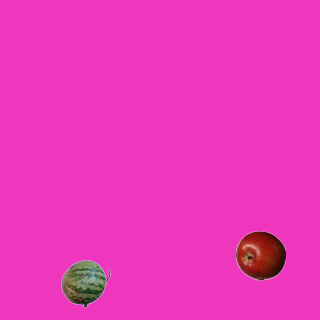Apple Braeburn: (235, 230, 285, 280)
Watermelon: (60, 258, 110, 308)
